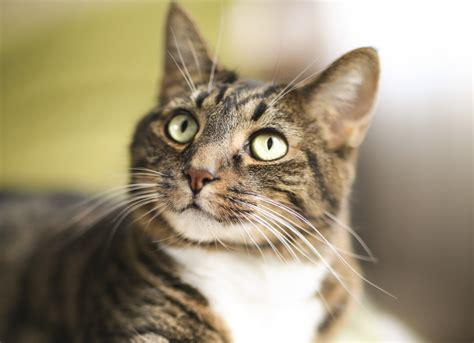cat: (1, 1, 380, 342)
